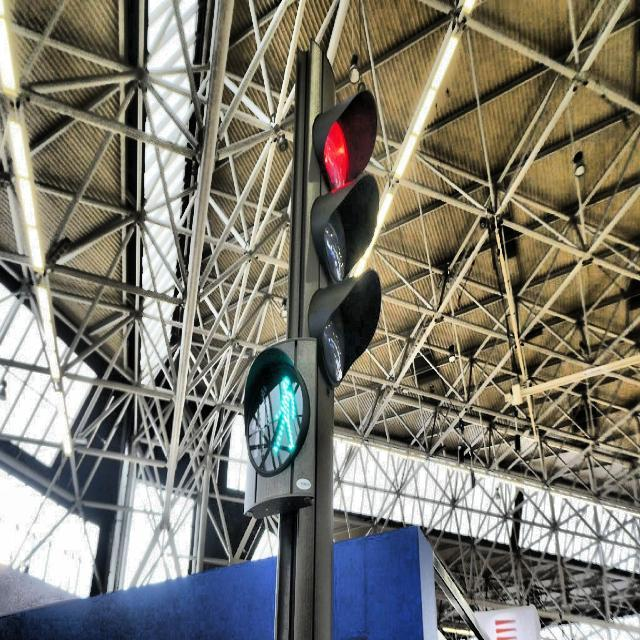green_light: (271, 372, 297, 454)
